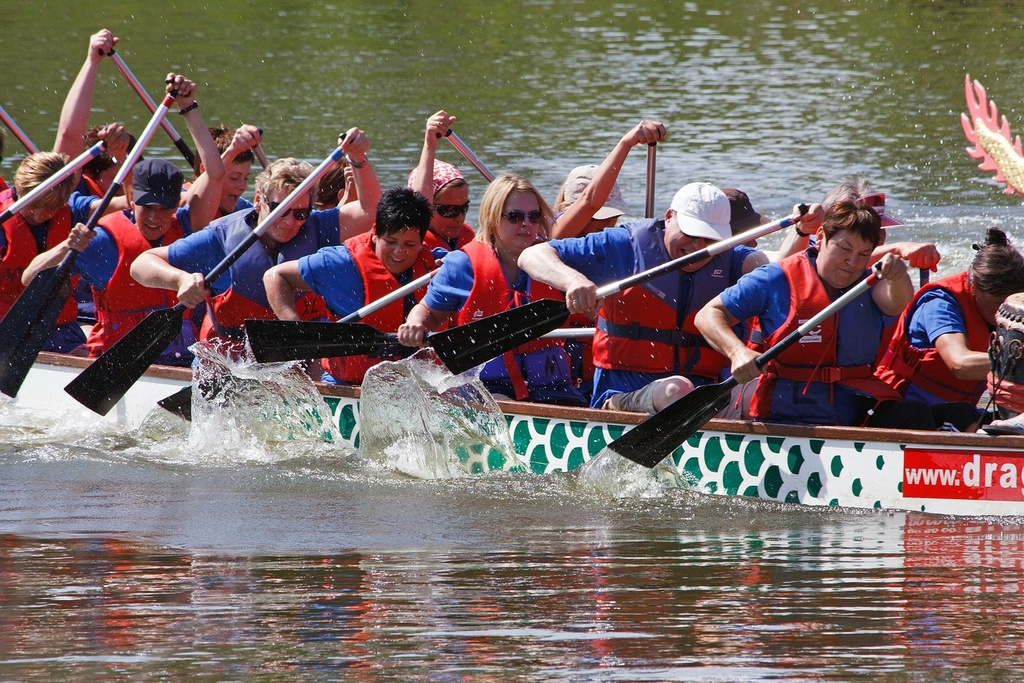Person: (0, 28, 1024, 434)
